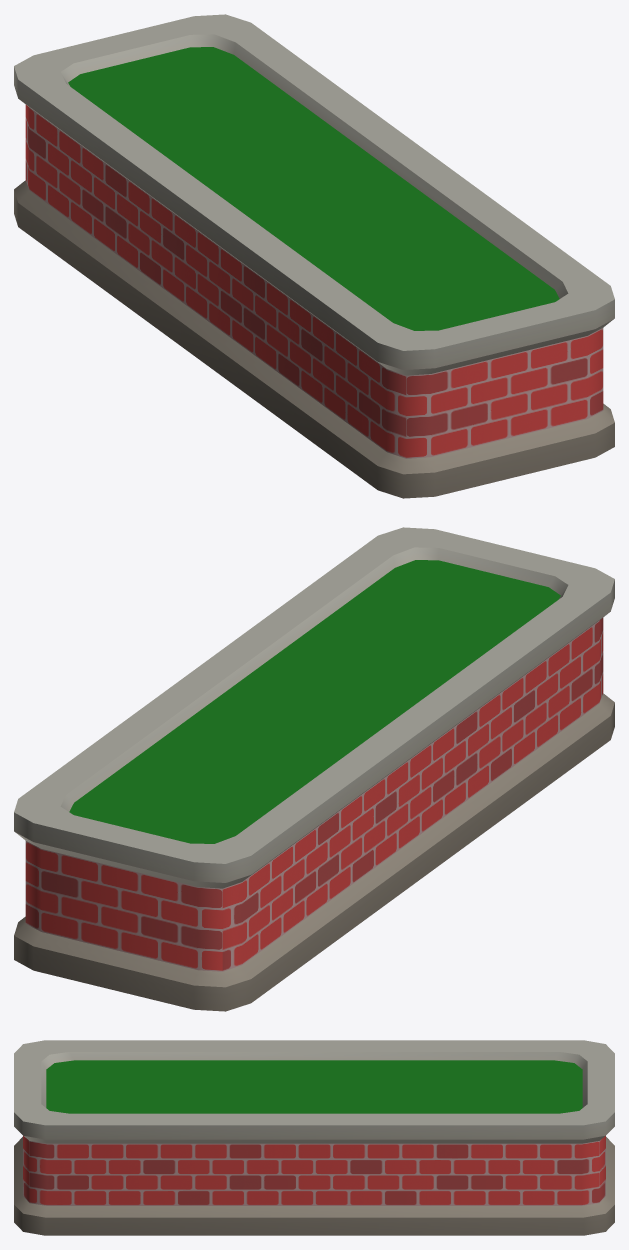
Rendered from FlowerPlacet_5_1_C.glb.
3 views of the same model, one above another, from view 1: azimuth 30°, elevation 25°; view 2: azimuth 150°, elevation 25°; view 3: azimuth 270°, elevation 25° (orthographic). The views are drawn at different scales.
Parts seen in each view (by area): view 1: FlowerPlacet_5_1_C; view 2: FlowerPlacet_5_1_C; view 3: FlowerPlacet_5_1_C.
Boxes of the visible parts, left/top/right/bottom form: FlowerPlacet_5_1_C: left=14, top=14, right=614, bottom=498; FlowerPlacet_5_1_C: left=14, top=527, right=614, bottom=1011; FlowerPlacet_5_1_C: left=14, top=1040, right=614, bottom=1235.
Size of the model in its own units: 1.43 by 0.8638 by 4.26.
Materials: 2 (2 with a texture image).
